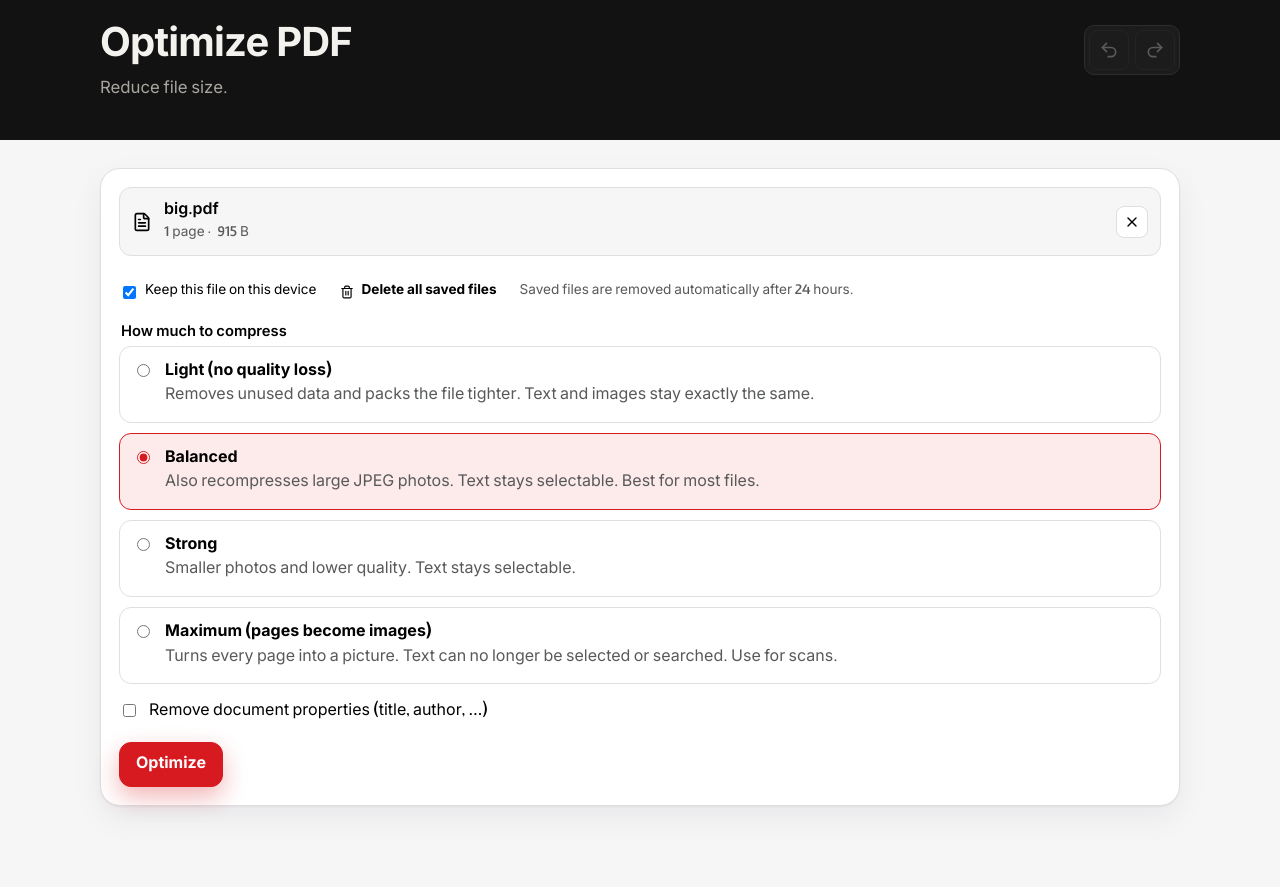
it: Optimize › shows the result and downloads it on request
Earlier steps of the test are not shown.
Later steps or results of the test are not shown.
Expected: the text "big.pdf" is shown, [164, 199, 219, 222]
Click the radio button labelled "Light" at coordinates (144, 370), box [137, 364, 150, 376]
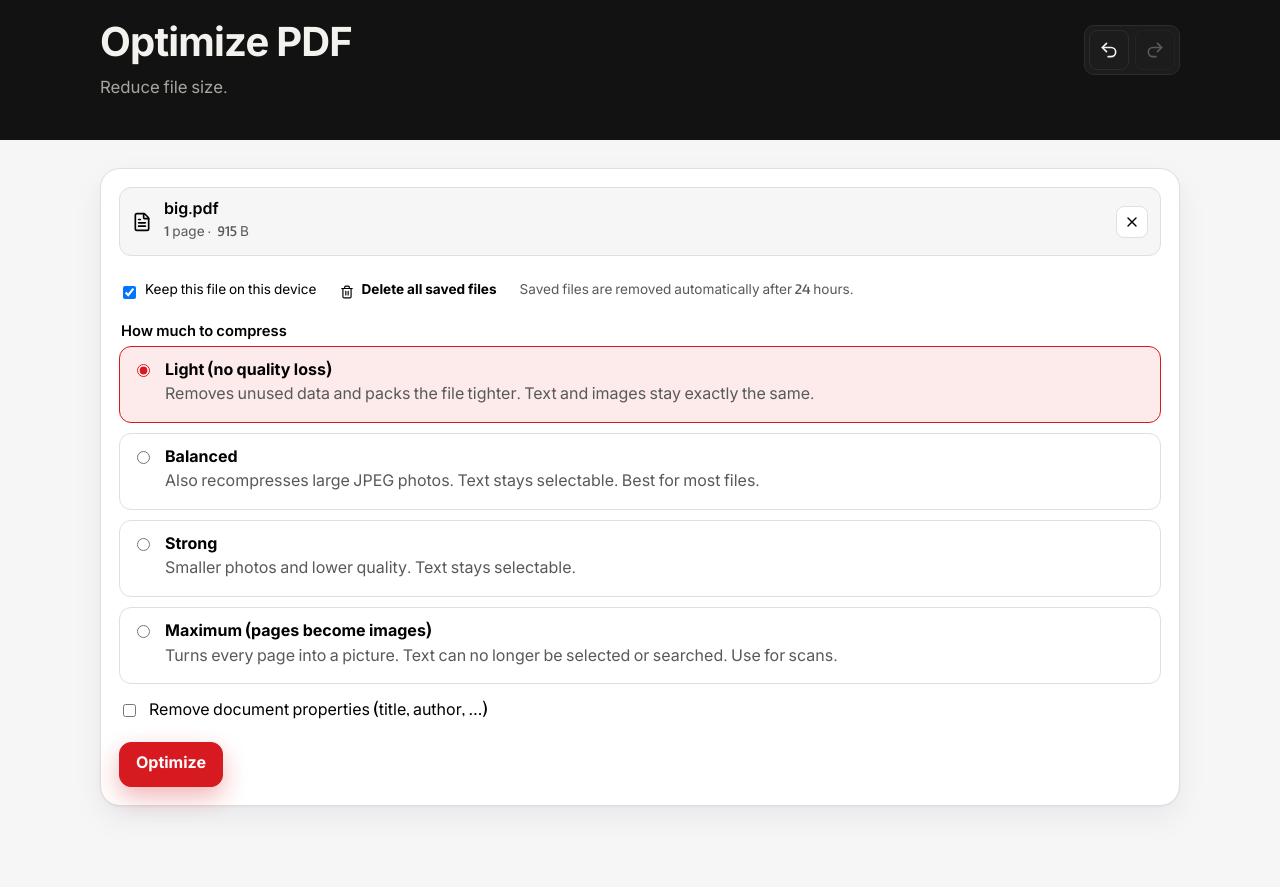
Click the button "Optimize" at coordinates (171, 765), box [119, 742, 223, 788]
(page scrolled)
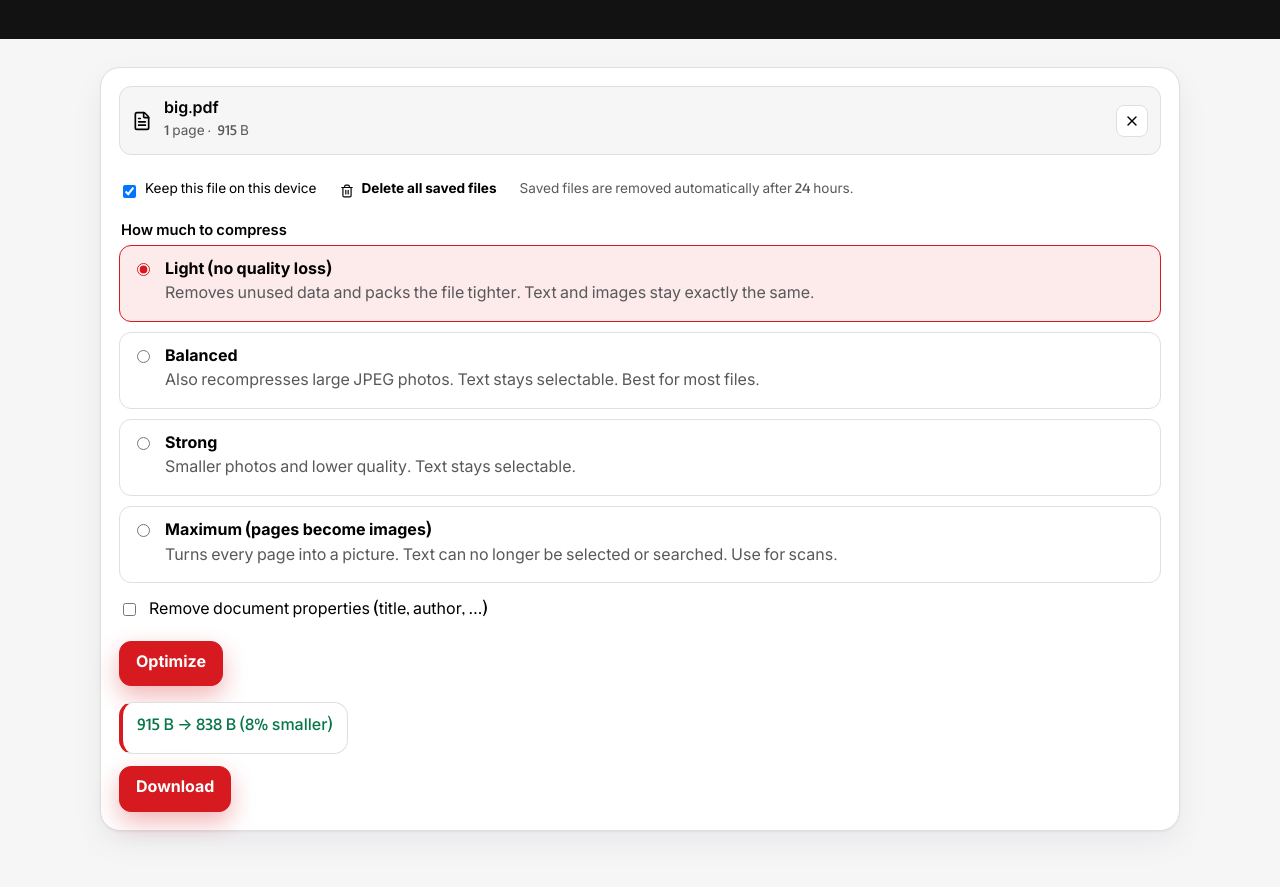
Expected: the text "915 B → 838 B (8% smaller)" is shown, [119, 702, 348, 754]
